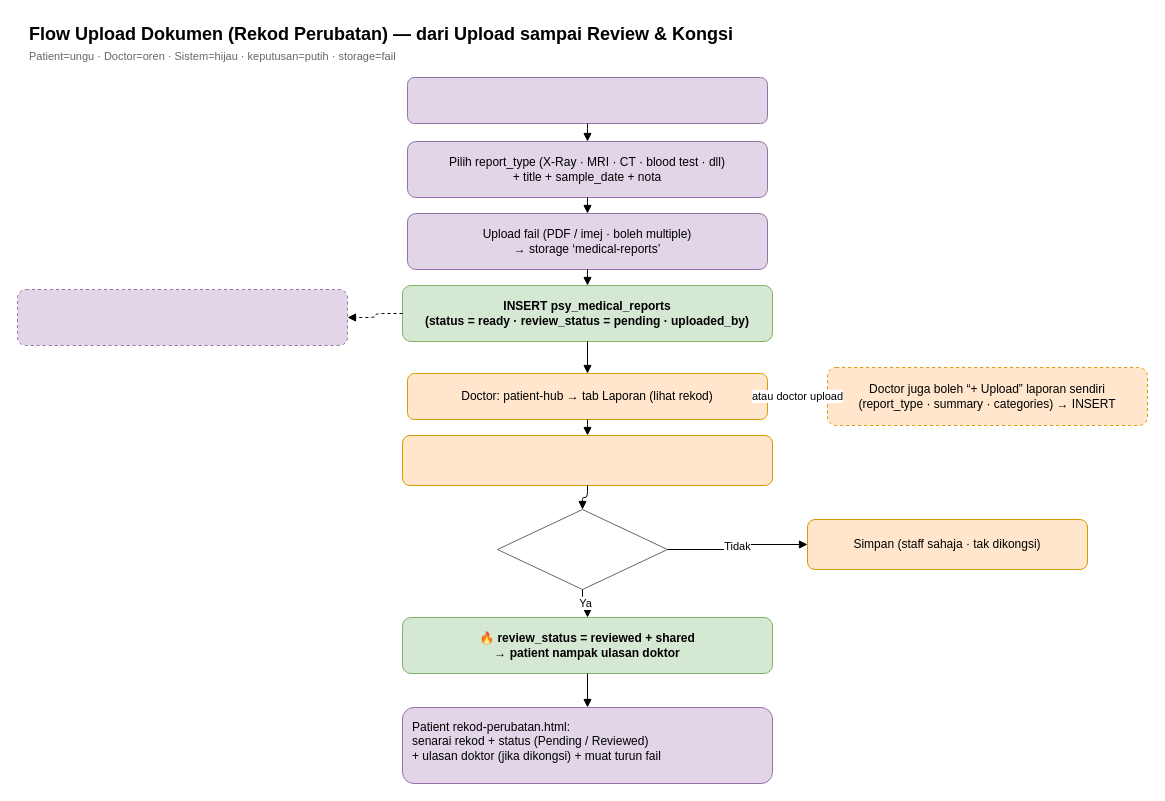
The diagram is 1165 pixels wide and 801 high, and some of its shapes have lost their labels. The shapes that lost their labels are listed below. From the top down, each one's centre as x and y in pixels, then its label:
pixel 587 100: Patient: rekod-perubatan.html → Tambah Rekod (rekod-tambah.html)
pixel 182 317: Patient boleh PADAM rekod selagi review_status = pending & uploaded_by = self
pixel 587 460: Semak fail + isi doctor_review → UPDATE review_status = reviewed
pixel 582 549: Kongsi dengan patient?
